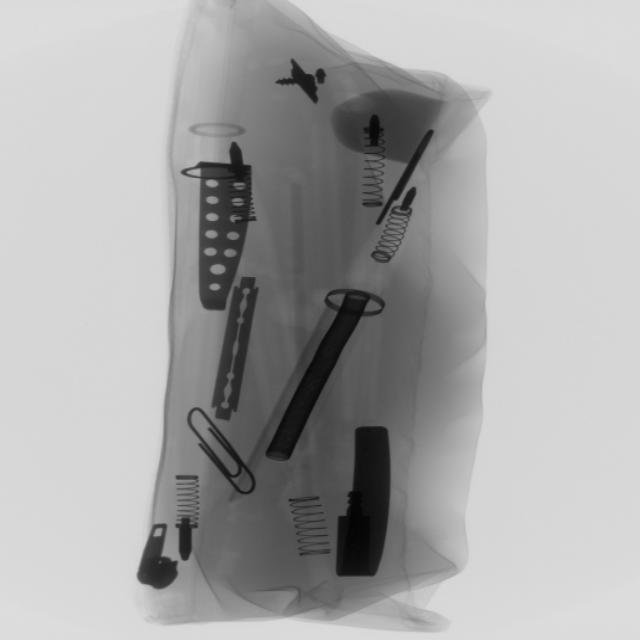BLADE: (207, 268, 262, 433)
